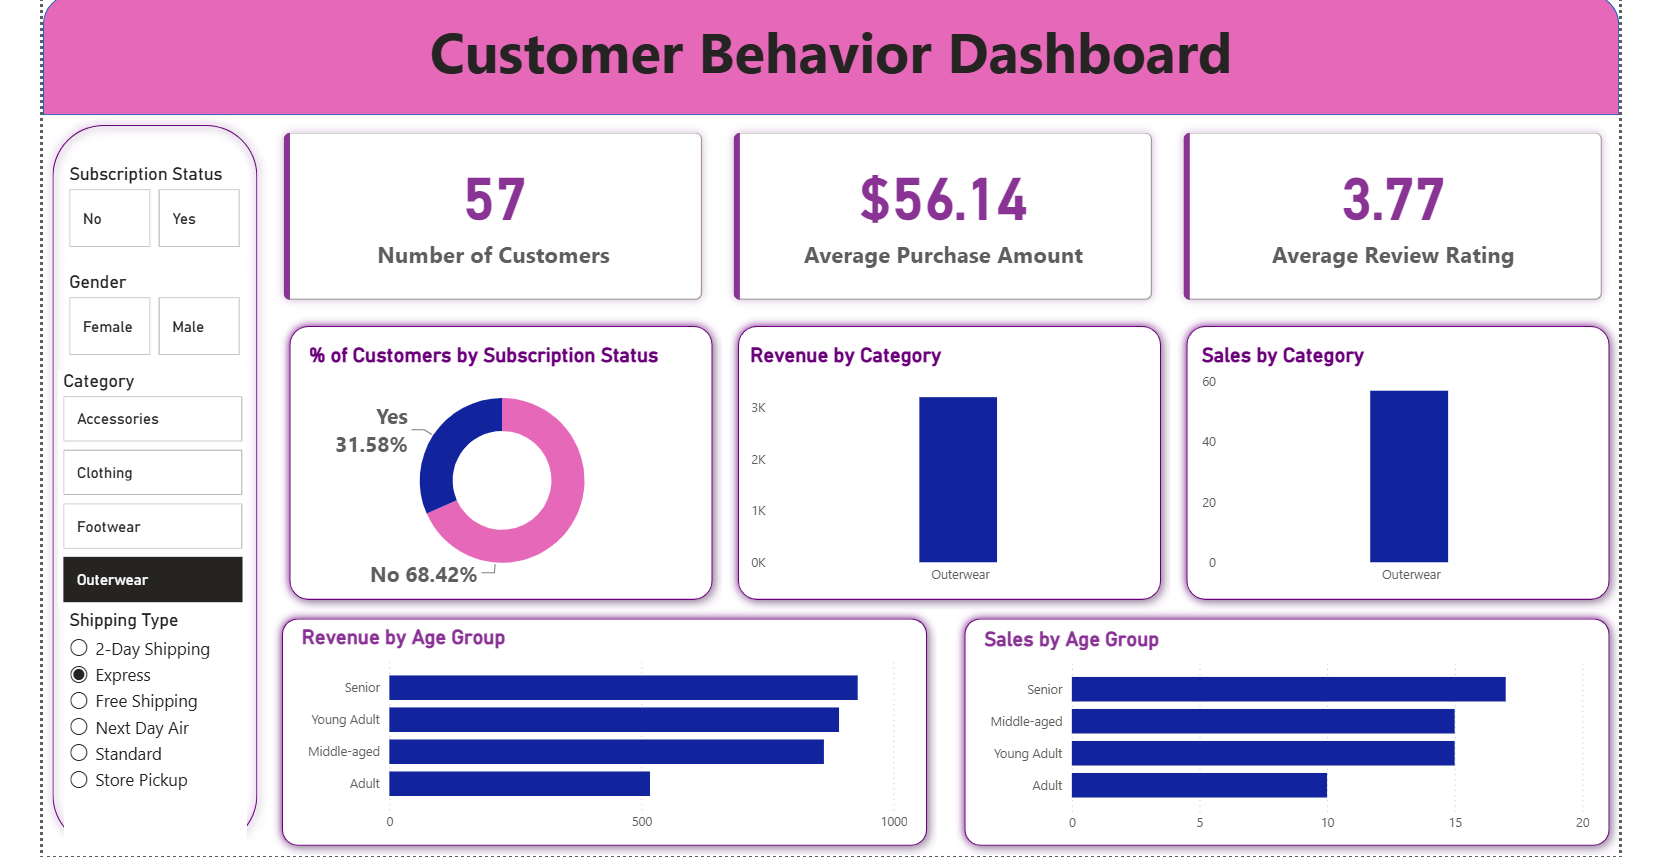

What the dashboard file says about the page in this screenshot:
{"tool":"powerbi","page":{"name":"Page 1","canvas":[1500,820],"ordinal":0},"visuals":[{"type":"cardVisual","fields":{"Data":["public customer.Number of Customers","public customer.Average Purchase Amount","public customer.Average Review Rating"]},"box":[212.9,115.3,1286.5,191.6],"z":2000},{"type":"shape","box":[218.3,585.6,631.7,234.2],"z":2500,"group":"g1"},{"type":"shape","box":[0,0,1499.4,115.3],"z":3000},{"type":"textbox","box":[0,12.4,1499.4,102.9],"z":4000},{"type":"shape","box":[225.4,307,420.5,278.6],"z":5000},{"type":"donutChart","title":"% of Customers by Subscription Status","fields":{"Category":["public customer.subscription_status"],"Y":["CountNonNull(public customer.customer_id)"]},"box":[248.4,331.8,376.2,237.8],"z":6000},{"type":"shape","box":[1078.9,307,420.5,278.6],"z":7000},{"type":"shape","box":[652.1,307,420.5,278.6],"z":8000},{"type":"clusteredColumnChart","title":"Revenue by Category","fields":{"Y":["Sum(public customer.purchase_amount)"],"Category":["public customer.category"]},"box":[667.2,331.8,385.1,237.8],"z":9000},{"type":"clusteredColumnChart","title":"Sales by Category","fields":{"Y":["CountNonNull(public customer.customer_id)"],"Category":["public customer.category"]},"box":[1096.6,331.8,385.1,237.8],"z":10000},{"type":"shape","box":[0,115.6,212.9,704.5],"z":11000},{"type":"advancedSlicerVisual","fields":{"Values":["public customer.subscription_status"]},"box":[19.5,161.5,173.9,85.2],"z":12000},{"type":"advancedSlicerVisual","fields":{"Values":["public customer.gender"]},"box":[19.5,264.4,173.9,85.2],"z":13000},{"type":"advancedSlicerVisual","fields":{"Values":["public customer.category"]},"box":[13.6,358.6,180.1,227],"z":14000},{"type":"listSlicer","fields":{"Values":["public customer.shipping_type"]},"box":[19.7,585.6,174,234.5],"z":15000},{"type":"shape","box":[867.7,585.6,631.7,234.2],"z":16000},{"type":"clusteredBarChart","title":"Sales by Age Group","fields":{"Y":["CountNonNull(public customer.customer_id)"],"Category":["public customer.age_group"]},"box":[890.8,601.5,585.6,204.1],"z":17000},{"type":"clusteredBarChart","title":"Revenue by Age Group","fields":{"Y":["Sum(public customer.purchase_amount)"],"Category":["public customer.age_group"]},"box":[241.4,601.6,585.6,204.1],"z":17500,"group":"g1"},{"type":"group","id":"g1","title":"Group 1","box":[218.3,585.6,631.7,234.2],"z":17501}]}

Visuals, with their boxes in screenshot pixels (x1, y1, x2, y2):
cardVisual - public customer.Number of Customers x public customer.Average Purchase Amount: (262, 114, 1634, 319)
shape: (268, 616, 942, 856)
shape: (35, 0, 1634, 114)
textbox: (35, 4, 1634, 114)
shape: (275, 319, 724, 616)
"% of Customers by Subscription Status" donutChart: (300, 345, 701, 599)
shape: (1186, 319, 1634, 616)
shape: (730, 319, 1179, 616)
"Revenue by Category" clusteredColumnChart: (747, 345, 1157, 599)
"Sales by Category" clusteredColumnChart: (1205, 345, 1615, 599)
shape: (35, 115, 262, 856)
advancedSlicerVisual - public customer.subscription_status: (56, 164, 241, 254)
advancedSlicerVisual - public customer.gender: (56, 273, 241, 364)
advancedSlicerVisual - public customer.category: (49, 374, 242, 616)
listSlicer - public customer.shipping_type: (56, 616, 242, 856)
shape: (960, 616, 1634, 856)
"Sales by Age Group" clusteredBarChart: (985, 633, 1610, 851)
"Revenue by Age Group" clusteredBarChart: (292, 633, 917, 851)
"Group 1" group: (268, 616, 942, 856)
